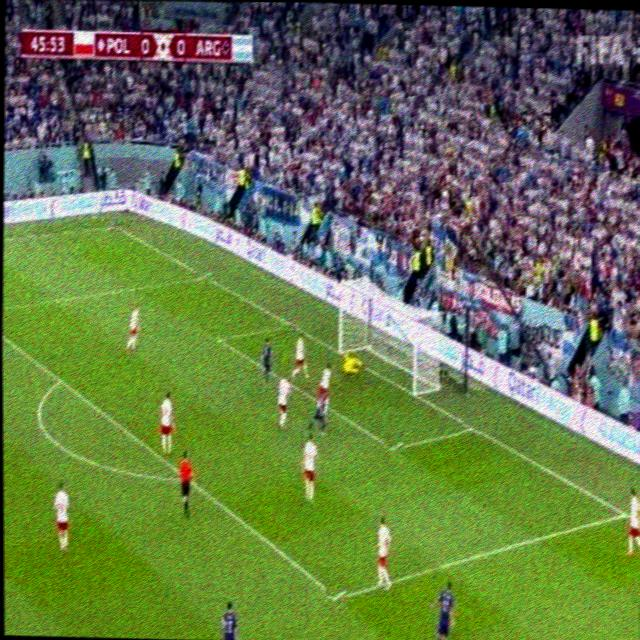bigarea_bottom_inner: (325, 582, 345, 610)
bigarea_bottom_outter: (616, 504, 630, 525)
bigarea_top_outter: (196, 267, 211, 284)
corner: (106, 218, 122, 231)
smallarea_bottom_inner: (383, 433, 403, 460)
smallarea_bottom_outter: (463, 416, 481, 436)
smallarea_top_inner: (208, 328, 225, 348)
smallarea_top_outter: (282, 315, 298, 333)
top_arc_area_intersection: (51, 370, 67, 389)
